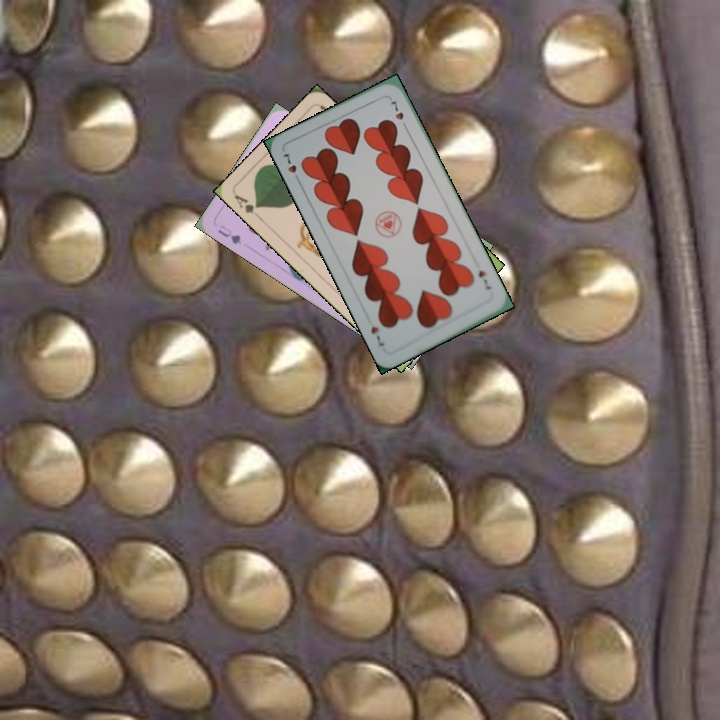GA: (230, 190, 264, 222)
GU: (214, 221, 244, 247)
H7: (279, 147, 303, 186), (474, 266, 493, 292)
